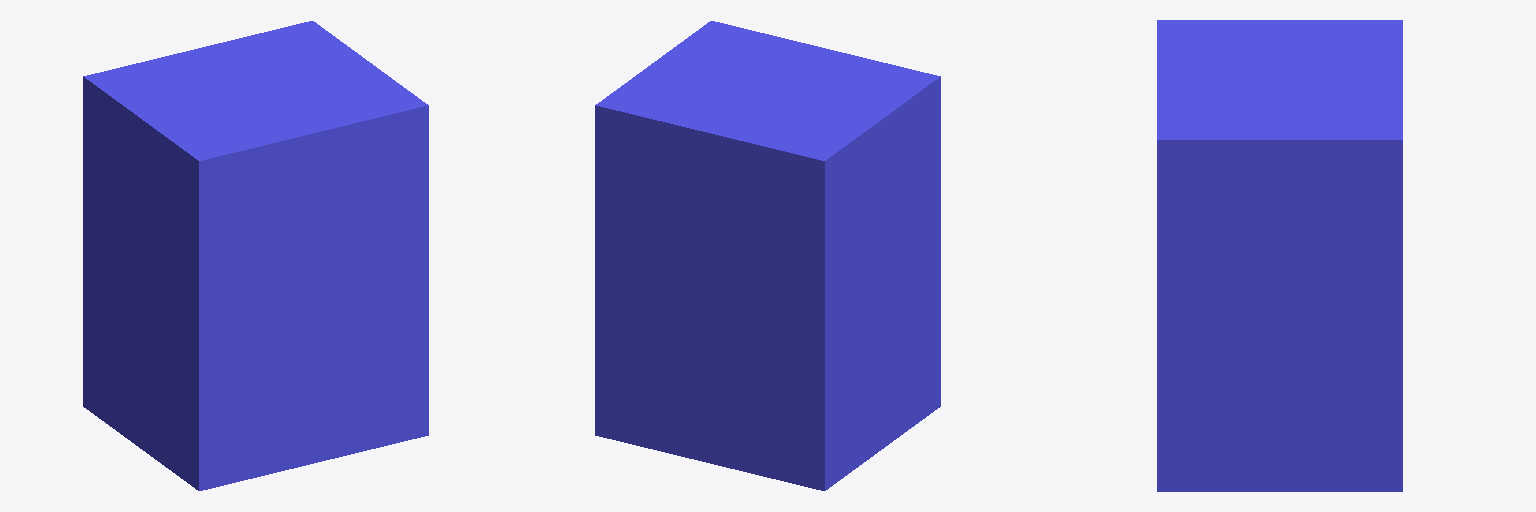
robot.urdf — block:
<robot name="block">
  <link name="block">
    <inertial>
      <origin xyz="0 0 0" />
      <mass value="0.1" />
      <inertia  ixx="0.00003375" ixy="0.0"  ixz="0.0"  iyy="0.00003375"  iyz="0.0"  izz="0.00003375" />
    </inertial>

    <visual>
      <origin xyz="0 0 0"/>
      <geometry>
        <box size="0.04 0.035 0.055" />
      </geometry>
      <material name="purple">
        <color rgba="0.4 0.4 1.0 1.0"/>
      </material>
    </visual>

    <collision>
      <origin xyz="0 0 0"/>
      <geometry>
        <box size="0.04 0.035 0.055" />
      </geometry>
    </collision>
  </link>
</robot>

--- What the picture shows (computed from the rendered views, not written in the file) ---
Views: 3 orthographic renders of the robot side by side, from view 1: azimuth 30°, elevation 25°; view 2: azimuth 150°, elevation 25°; view 3: azimuth 270°, elevation 25°.
Robot: block — 1 links, 0 joints (none); root link block; default pose: all joints at 0.
Links seen in each view (by area): view 1: block; view 2: block; view 3: block.
Link boxes in pixels (left/top/right/bottom): block: left=83, top=21, right=428, bottom=490; block: left=595, top=21, right=940, bottom=490; block: left=1157, top=20, right=1402, bottom=491.
Bounding box of the posed robot: 0.04 × 0.035 × 0.055 m (x, y, z).
Geometry: primitives only (box / cylinder / sphere), no mesh files.